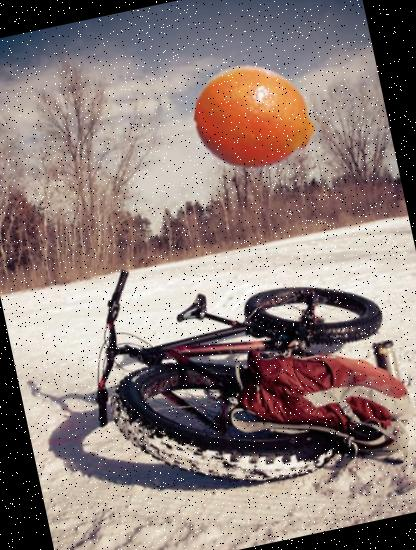Tangelo: (183, 46, 328, 191)
